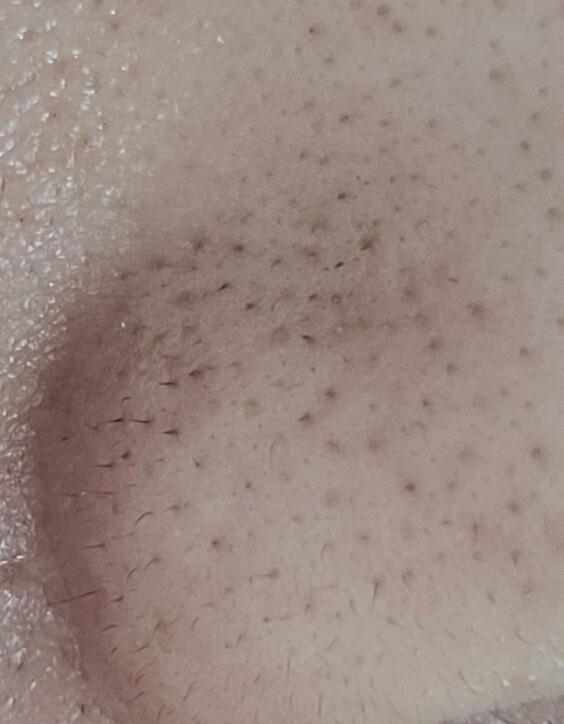blackhead: (250, 195, 425, 327), (147, 218, 221, 287), (293, 9, 339, 70)
